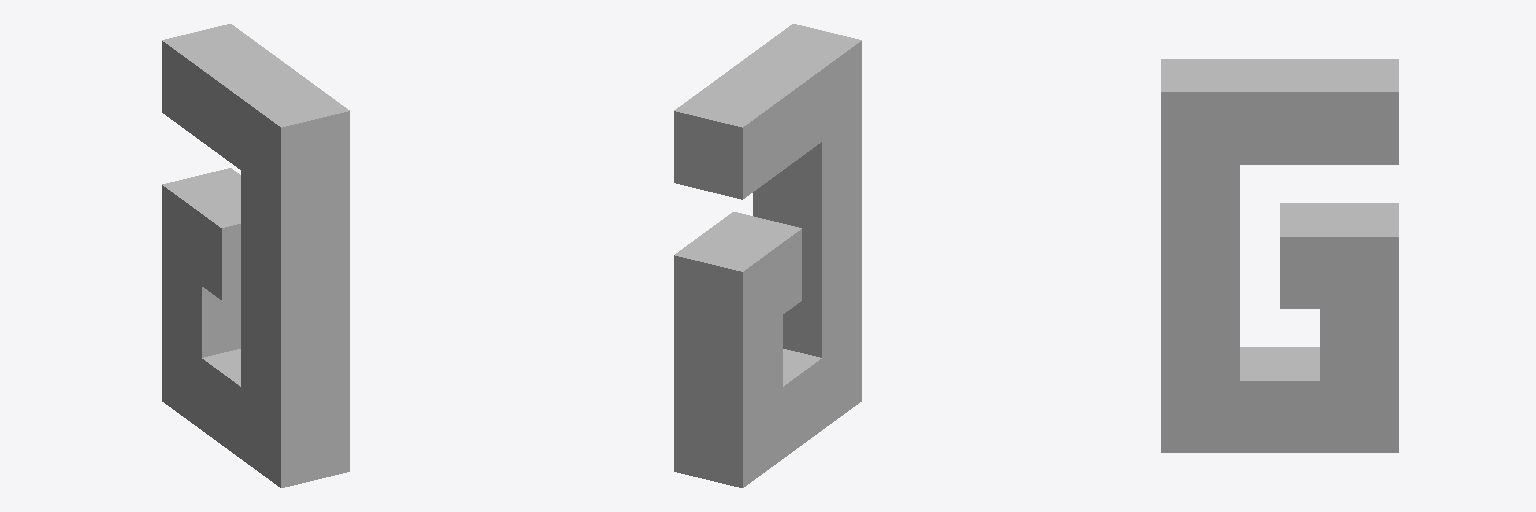
The model's file is character_g.obj.
3 views of the same model, side by side, from view 1: azimuth 30°, elevation 25°; view 2: azimuth 150°, elevation 25°; view 3: azimuth 270°, elevation 25° (orthographic).
Visible parts, largest first — view 1: Cube.001; view 2: Cube.001; view 3: Cube.001.
Boxes of the visible parts, x1=… form: Cube.001: x1=162, y1=24, x2=349, y2=487; Cube.001: x1=674, y1=24, x2=861, y2=487; Cube.001: x1=1161, y1=59, x2=1398, y2=452.
Bounding box in the file's own units: 6 × 30 × 18.